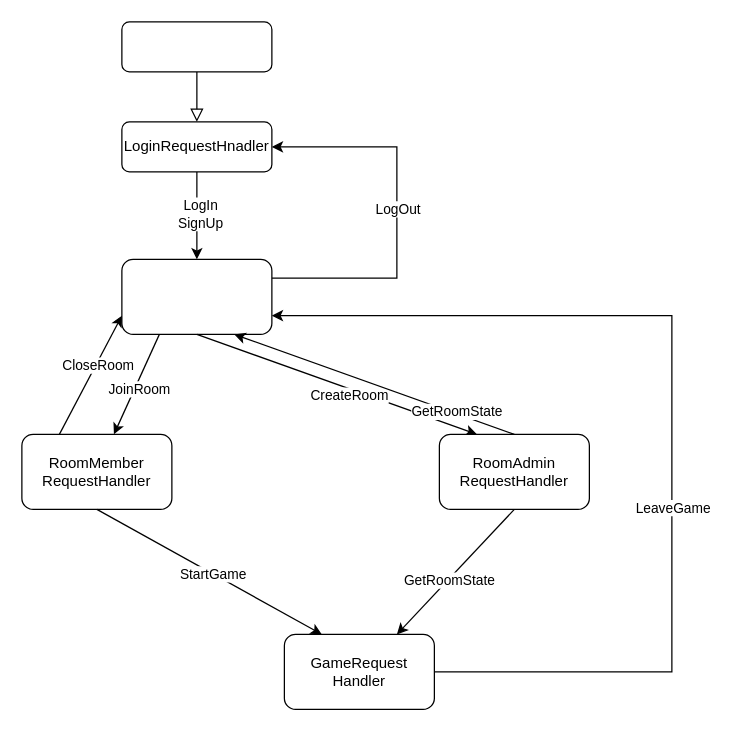
Some shapes in this 731 by 731 pixel diagram are drawn without their labels. Here are the shapes that lost their labels. From the top down, the centre of each, then its label:
pixel 196 46: new client connected
pixel 196 296: MenuRequest Handler
